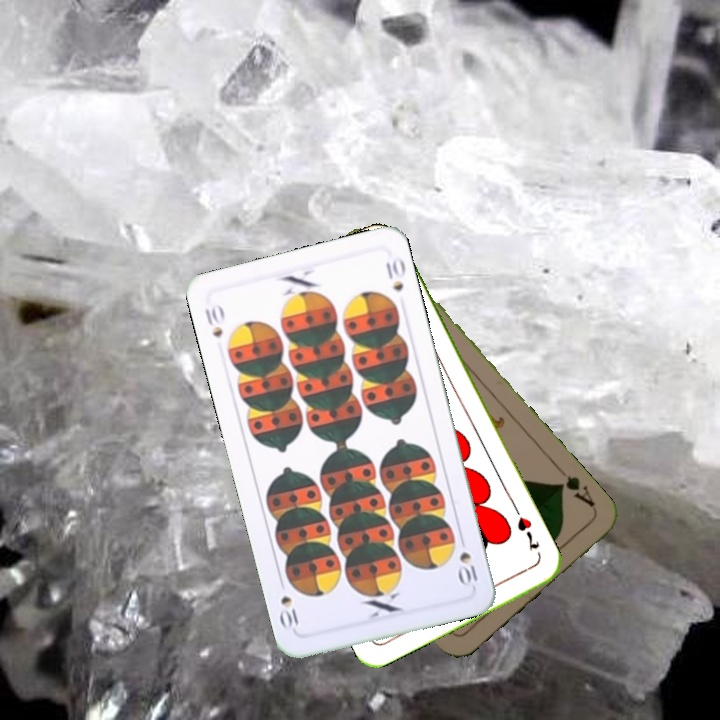GA: (553, 471, 598, 510)
H7: (510, 504, 542, 554)
S10: (201, 299, 227, 341), (455, 548, 480, 590)
